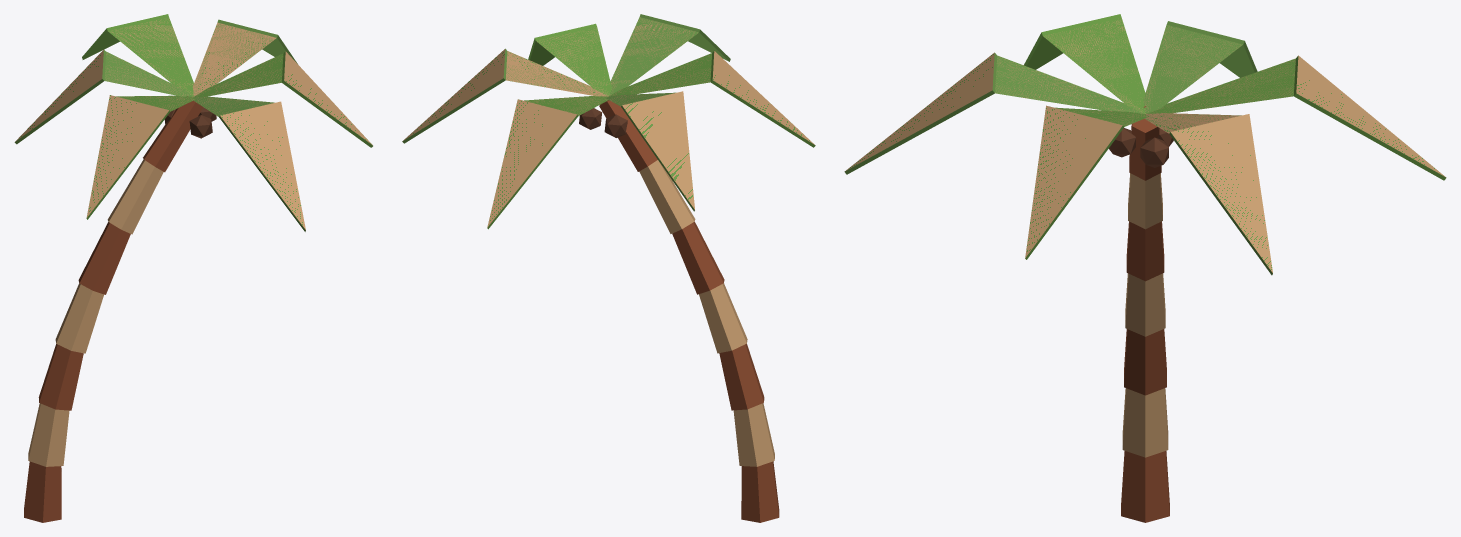
File: Palm_Tree_Bent.glb
3 renders of one model, left to right at view 1: azimuth 30°, elevation 25°; view 2: azimuth 150°, elevation 25°; view 3: azimuth 270°, elevation 25°, orthographic. The views are drawn at different scales.
Visible parts, largest first — view 1: Palm_Tree_Bent; view 2: Palm_Tree_Bent; view 3: Palm_Tree_Bent.
Part boxes in pixels (x1,y1,x2,y2): Palm_Tree_Bent: (14,14,372,522); Palm_Tree_Bent: (402,14,815,522); Palm_Tree_Bent: (844,14,1446,522).
Size of the model in its own units: 3.46 by 4.19 by 4.28.
Materials: 1 (1 with a texture image).
